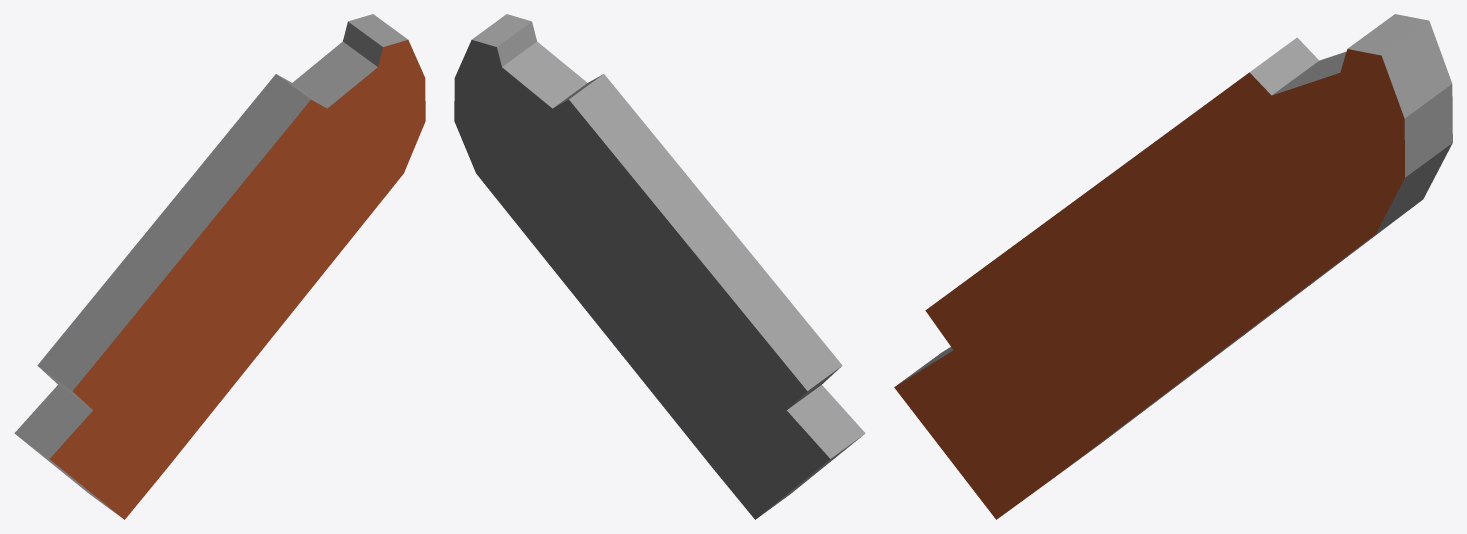
File: construction_5642_assumed_A_Casa_h6m.obj
The picture shows the model from 3 angles, left to right: view 1: azimuth 30°, elevation 25°; view 2: azimuth 150°, elevation 25°; view 3: azimuth 330°, elevation 25°; orthographic projection. The views are drawn at different scales.
Parts seen in each view (by area): view 1: construction_5642_assumed_A_Casa; view 2: construction_5642_assumed_A_Casa; view 3: construction_5642_assumed_A_Casa.
Boxes of the visible parts, x1,y1,x2,y2 form: construction_5642_assumed_A_Casa: (14, 14, 425, 519); construction_5642_assumed_A_Casa: (454, 14, 865, 519); construction_5642_assumed_A_Casa: (894, 14, 1452, 519).
Bounding box in the file's own units: 37.08 × 38.71 × 6.
